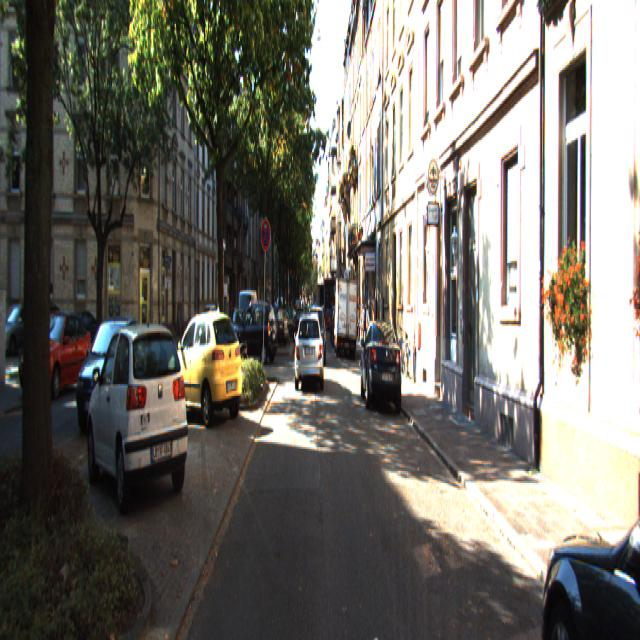Car: (537, 352, 639, 638), (82, 324, 193, 522), (166, 307, 246, 432), (68, 318, 146, 431), (20, 313, 94, 397), (360, 314, 404, 413), (230, 298, 278, 364), (294, 311, 324, 390), (334, 278, 358, 357), (306, 306, 326, 365)
